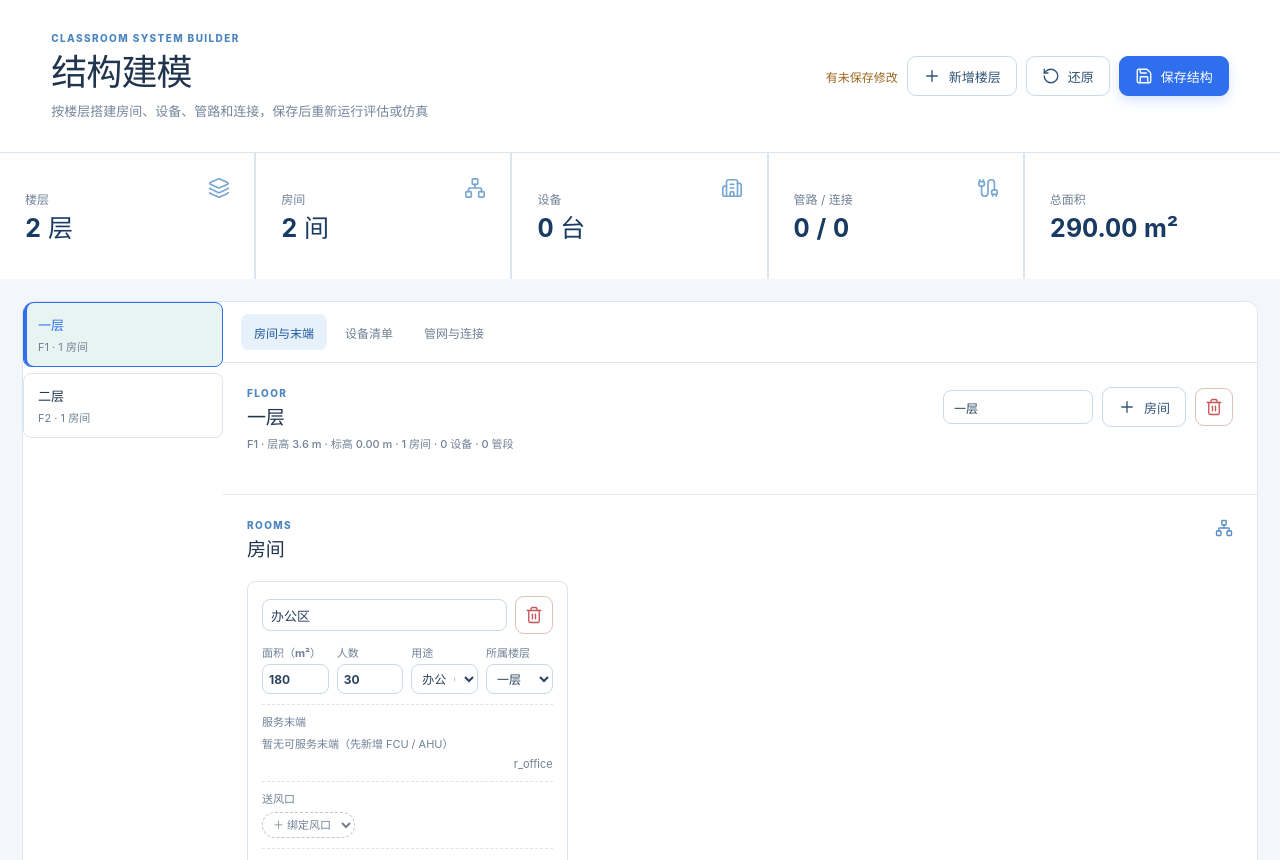
Scenario: BuildingView floor navigation › blocks saving while any area is non-positive
Replace the text in the number field named "办公区 面积（m²）" with "0" at {"x": 295, "y": 679}, box [262,664,329,694]
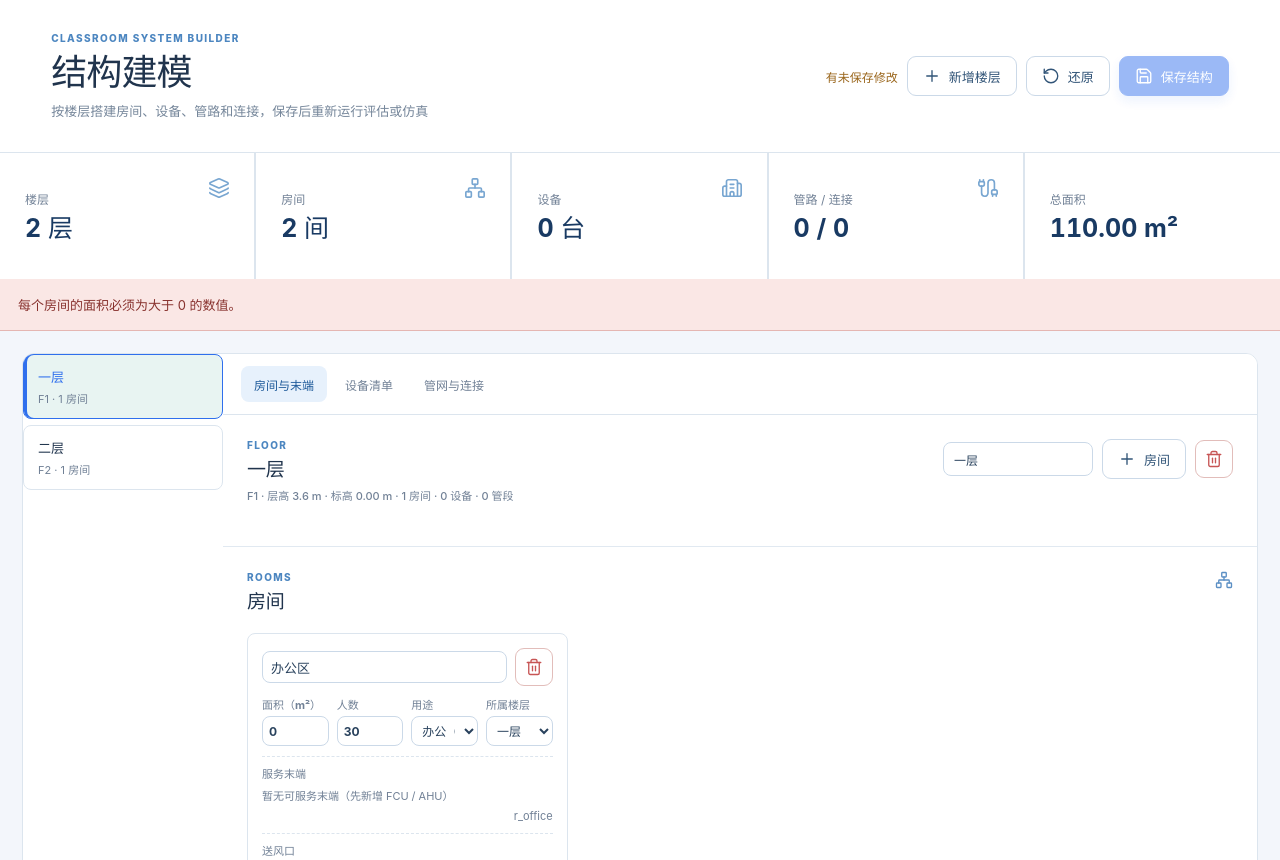
Expected: the text "面积必须为大于 0 的数值" is shown, [18,297,242,313]
Expected: the button "保存结构" is disabled, [1119,56,1229,96]
